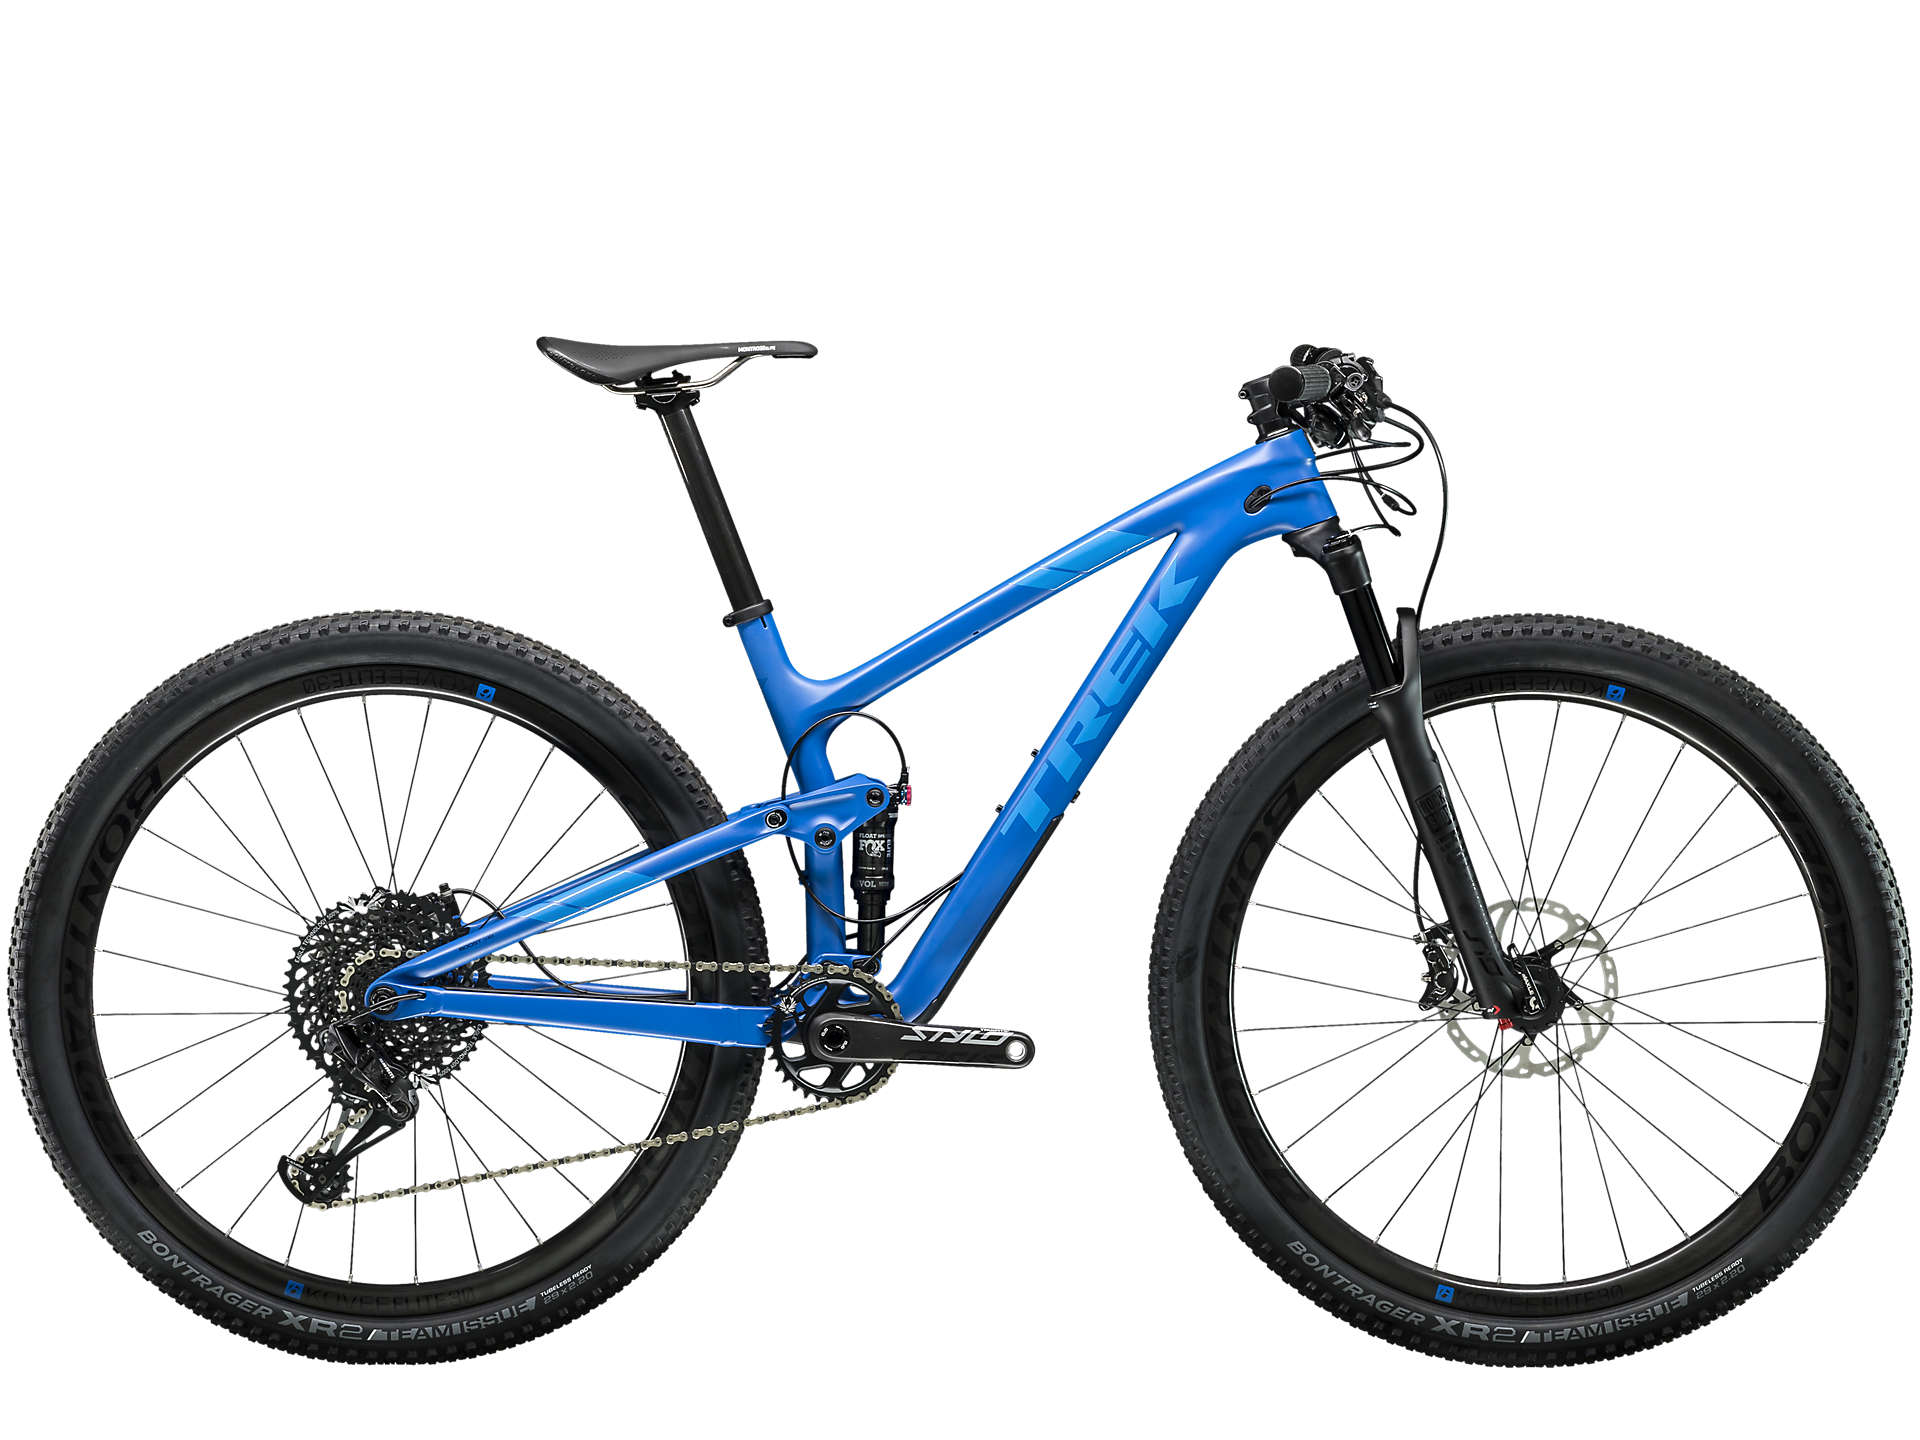MNV: (14, 337, 1909, 1358)
